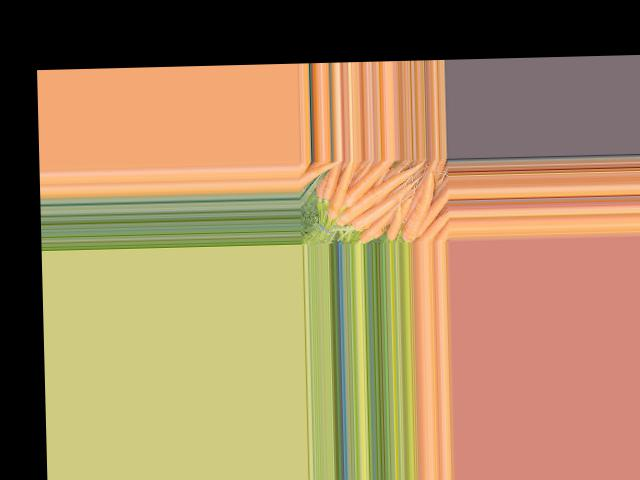carrot: (342, 158, 395, 206)
